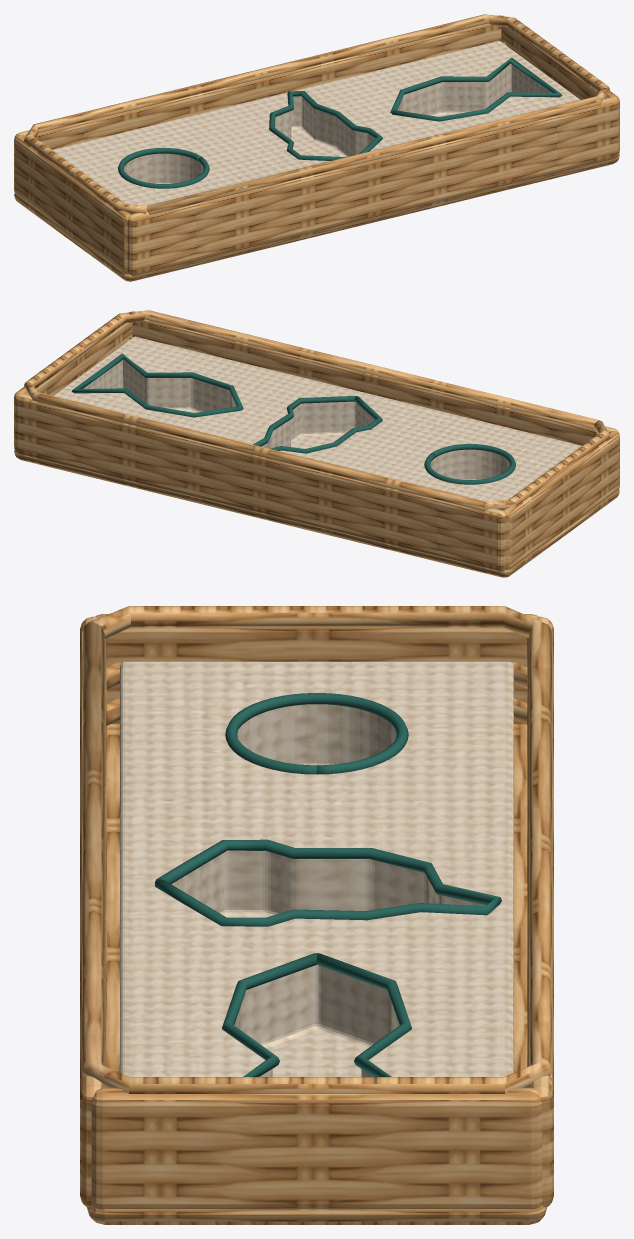
The model's file is basket.glb.
3 renders of one model, top to bottom at view 1: azimuth 30°, elevation 25°; view 2: azimuth 150°, elevation 25°; view 3: azimuth 270°, elevation 25°, orthographic. The views are drawn at different scales.
Parts seen in each view (by area): view 1: Cream fitted insert, Basket side.001, Basket woven rim, Basket side, Basket end.001, Wicker basket base, fish socket piping, Basket end, mouse socket piping, ball socket piping; view 2: Cream fitted insert, Basket side, Basket woven rim, Basket side.001, Basket end.001, Wicker basket base, fish socket piping, Basket end, mouse socket piping, ball socket piping; view 3: Cream fitted insert, Basket end, Basket woven rim, Wicker basket base, Basket end.001, mouse socket piping, fish socket piping, ball socket piping, Basket side, Basket side.001.
Boxes of the visible parts, x1,y1,x2,y2 form: Cream fitted insert: (52,40,580,205); Basket side.001: (127,97,619,275); Basket woven rim: (24,14,609,214); Basket side: (14,15,503,149); Basket end.001: (14,135,130,273); Wicker basket base: (14,154,619,281); fish socket piping: (390,57,562,121); Basket end: (501,26,619,150); mouse socket piping: (269,91,382,160); ball socket piping: (118,148,209,188); Cream fitted insert: (54,336,581,501); Basket side: (14,393,506,571); Basket woven rim: (24,310,609,510); Basket side.001: (130,311,619,445); Basket end.001: (503,431,619,569); Wicker basket base: (14,450,619,577); fish socket piping: (71,353,243,417); Basket end: (14,322,132,446); mouse socket piping: (253,396,382,453); ball socket piping: (424,444,515,484); Cream fitted insert: (120,661,513,1076); Basket end: (91,1087,542,1209); Basket woven rim: (82,606,551,1093); Wicker basket base: (87,724,546,1224); Basket end.001: (95,614,538,724); mouse socket piping: (154,839,501,926); fish socket piping: (222,953,411,1076); ball socket piping: (225,693,408,774); Basket side: (527,616,553,1207); Basket side.001: (80,616,106,1207).
Bounding box in the file's own units: 1.72 × 0.242 × 0.71.
Materials: 3 (2 with a texture image).
